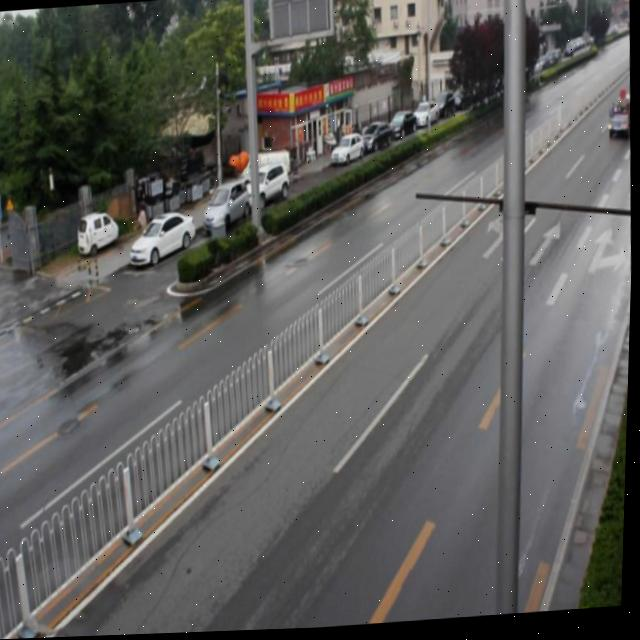bus: (606, 91, 631, 143)
